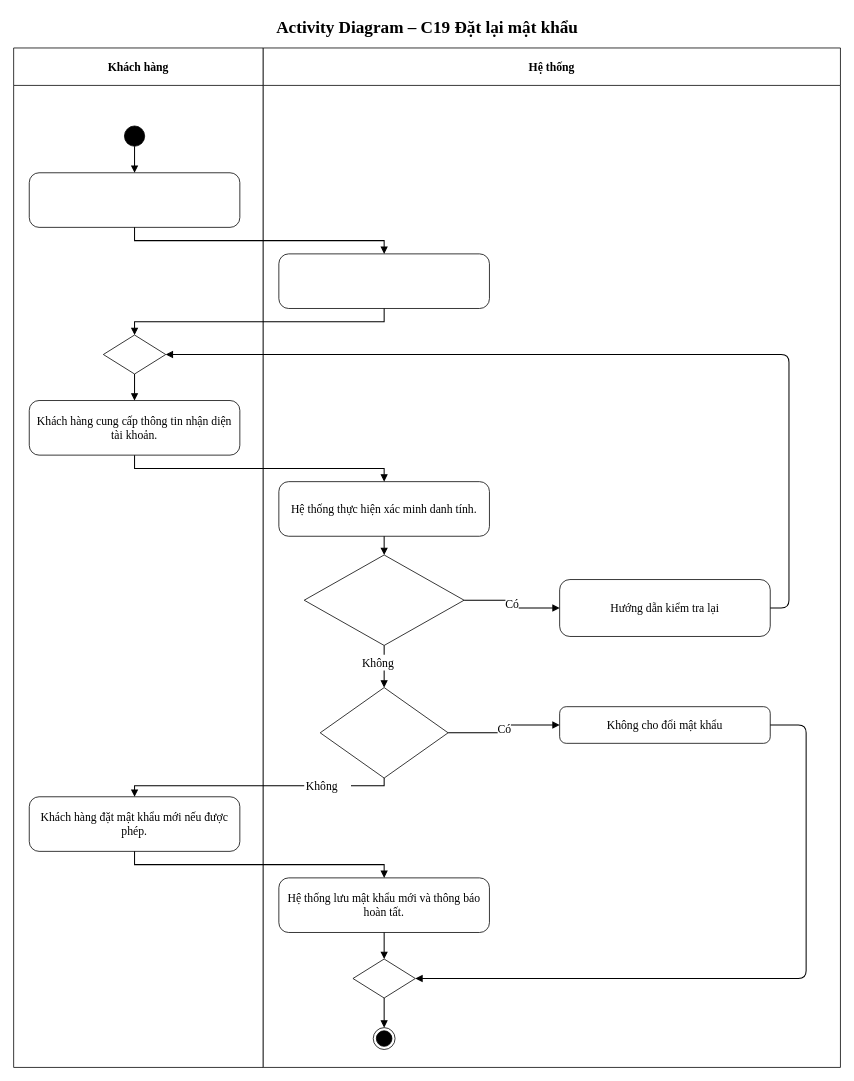
Image size: 854x1081. Some labels were removed from this diagram. The centre of each missing label's shape, as x and y in pixels:
"Hệ thống mở quy trình khôi phục tài khoản." belongs at (x=383, y=280).
"Khách hàng chọn Bạn đã quên mật khẩu?." belongs at (x=134, y=199).
"Không tìm thấy thông tin tài khoản?" belongs at (x=383, y=599).
"Không xác minh được danh tính?" belongs at (x=383, y=732).
